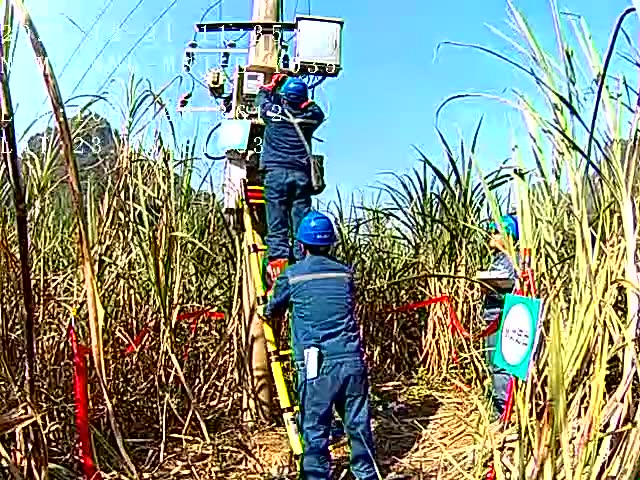halt: (297, 214, 339, 259), (281, 79, 312, 112)
